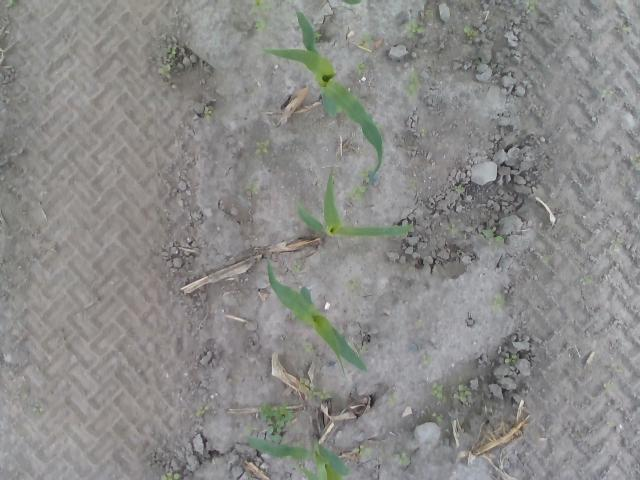Maize: (262, 2, 385, 185), (266, 256, 370, 374), (296, 171, 414, 240), (240, 425, 350, 480)
Weeds: (258, 401, 294, 440), (406, 70, 419, 98), (480, 228, 504, 242), (346, 185, 368, 200), (453, 384, 471, 402), (308, 388, 334, 400), (393, 450, 412, 465), (158, 63, 173, 80), (406, 22, 426, 34), (254, 139, 269, 155), (492, 294, 505, 312), (250, 0, 264, 16), (431, 382, 443, 400), (352, 444, 370, 456), (345, 276, 360, 289), (388, 393, 401, 407), (195, 404, 208, 418), (504, 352, 518, 365), (160, 471, 180, 480), (362, 30, 373, 46), (526, 0, 536, 17), (203, 106, 213, 122), (353, 168, 369, 178), (610, 239, 622, 252), (245, 182, 258, 194), (580, 275, 592, 287), (631, 153, 640, 168), (302, 342, 313, 354), (421, 354, 432, 366), (4, 0, 17, 10), (463, 26, 476, 36), (357, 63, 368, 74), (256, 20, 266, 32), (31, 406, 45, 414), (166, 48, 177, 58), (602, 89, 614, 98), (292, 264, 302, 273), (456, 185, 466, 194), (602, 383, 610, 394), (246, 426, 258, 433), (446, 223, 455, 232), (314, 31, 322, 41), (436, 414, 443, 424), (624, 26, 632, 33)
